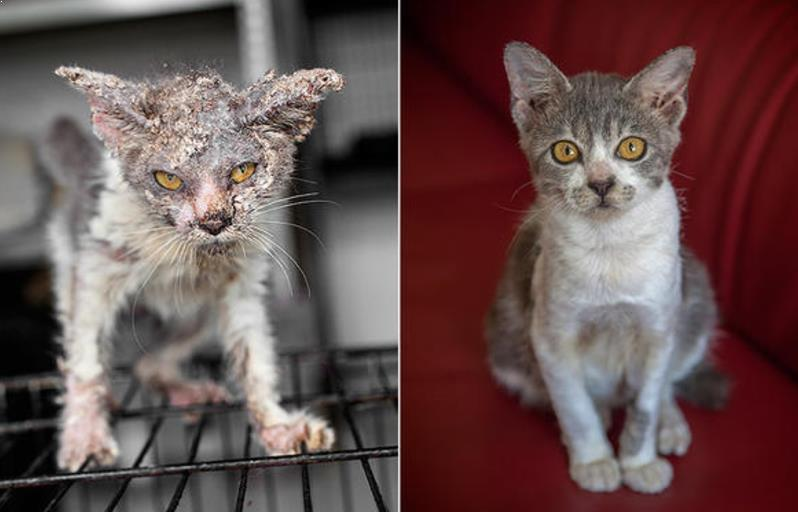kudis: (48, 49, 345, 237), (52, 57, 211, 161), (229, 58, 345, 166)
